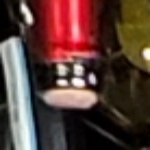bottle: (21, 30, 119, 129)
